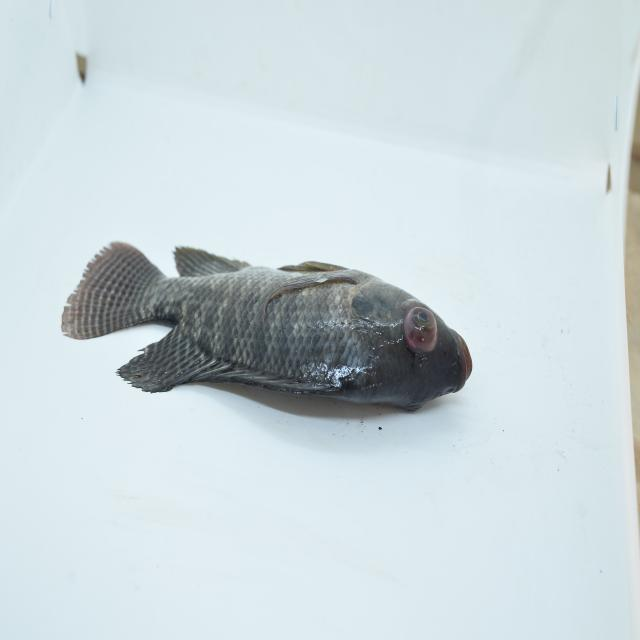streptococcus Disease: (57, 225, 483, 430)
